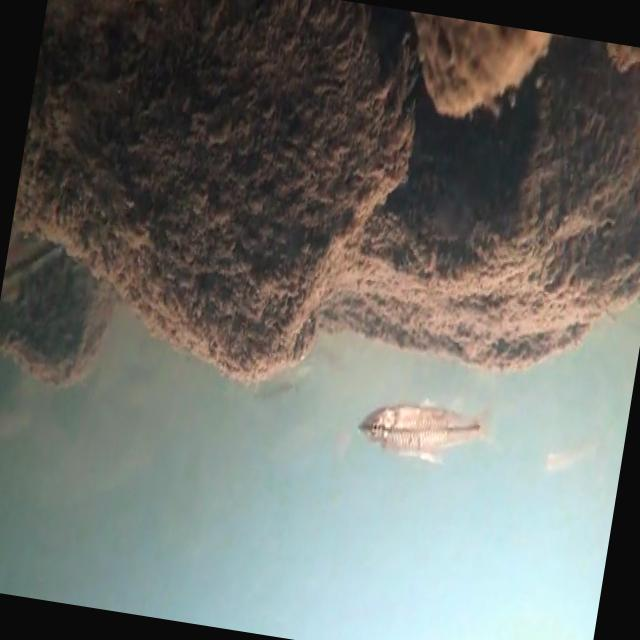Cakil Baligi: (348, 394, 497, 477)
